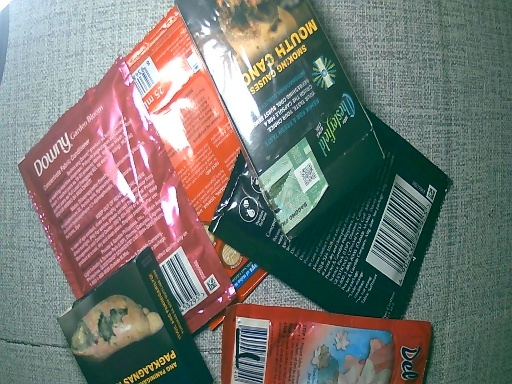cardboard: (179, 1, 390, 240), (47, 244, 213, 384)
plastic: (19, 53, 229, 327), (265, 151, 467, 314), (128, 2, 233, 216), (220, 301, 441, 384)
